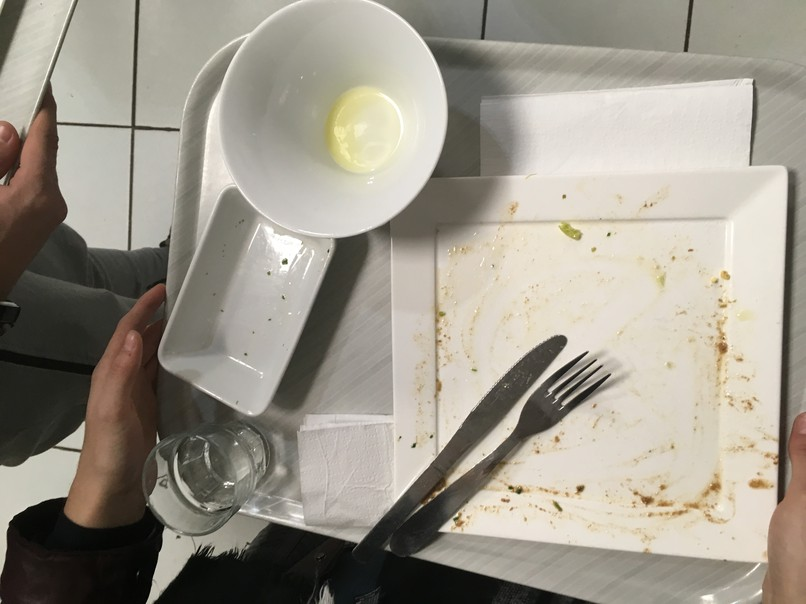cup: (142, 413, 273, 533)
cutlery: (342, 334, 618, 573)
trash: (480, 74, 749, 169), (293, 411, 401, 533)
